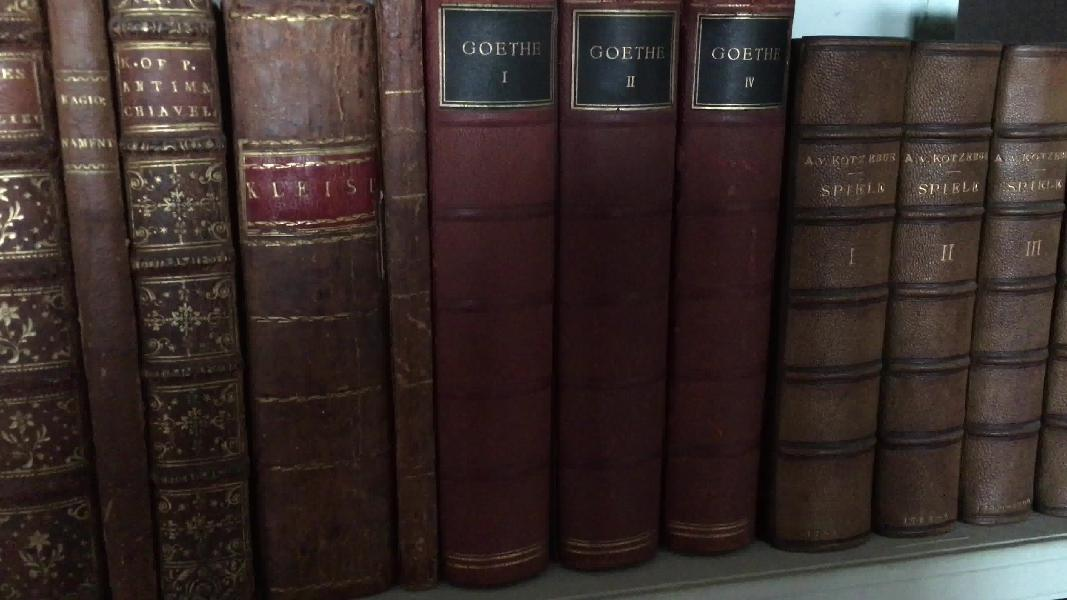Aa6-10: (367, 6, 445, 596)
Aa6-11_13: (441, 9, 776, 587)
Aa6-14_17: (792, 29, 1067, 549)
Aa6-7: (36, 7, 156, 600)
Aa6-8: (108, 6, 261, 599)
Aa6-9: (221, 9, 396, 589)
